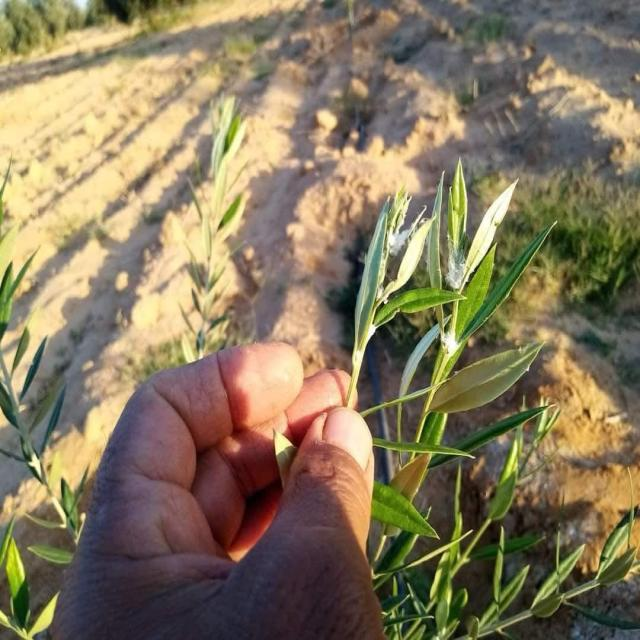Psyllid: (375, 198, 432, 310), (446, 229, 483, 291), (439, 315, 463, 369)
